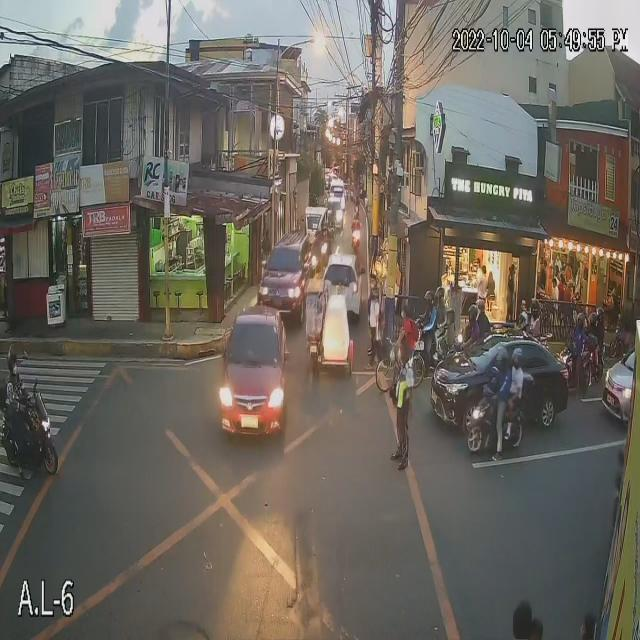helmet: (7, 340, 25, 385), (433, 278, 449, 304), (470, 297, 488, 319), (570, 312, 586, 336), (496, 345, 507, 379), (514, 345, 527, 373), (462, 301, 477, 323), (529, 294, 542, 318), (594, 302, 608, 323), (424, 287, 435, 313), (521, 304, 532, 330), (589, 313, 599, 329)
motorcycle: (0, 388, 68, 468), (466, 391, 525, 463), (561, 343, 604, 390), (352, 233, 362, 256)
rider: (1, 336, 39, 430), (505, 345, 526, 415), (492, 346, 510, 418), (529, 285, 545, 349), (571, 310, 587, 370), (475, 287, 492, 335), (590, 304, 608, 346), (586, 309, 599, 357), (436, 284, 450, 327), (464, 301, 478, 343), (425, 289, 436, 335), (518, 309, 530, 335), (352, 209, 360, 238)
